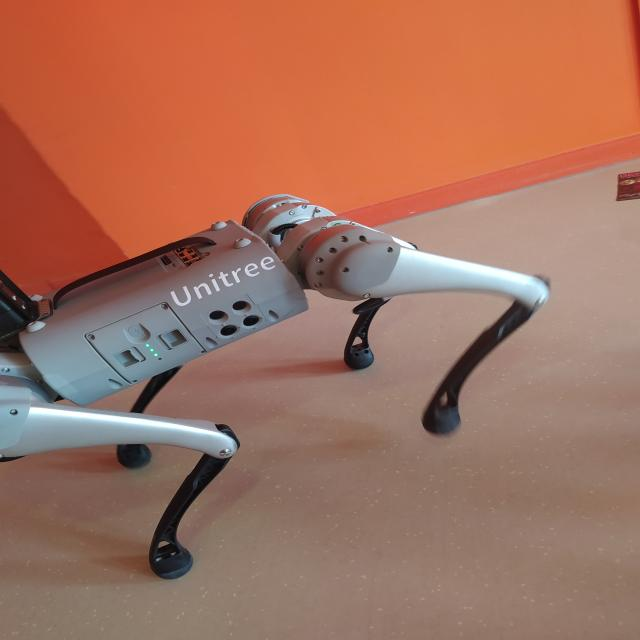unitree-go1-robot: (0, 190, 554, 573)
